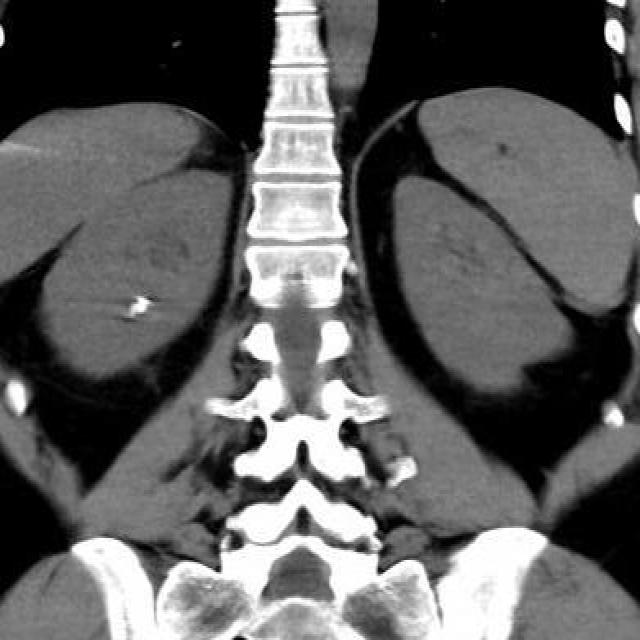Tas_Var: (135, 294, 153, 304), (134, 303, 148, 313), (129, 299, 136, 319)
